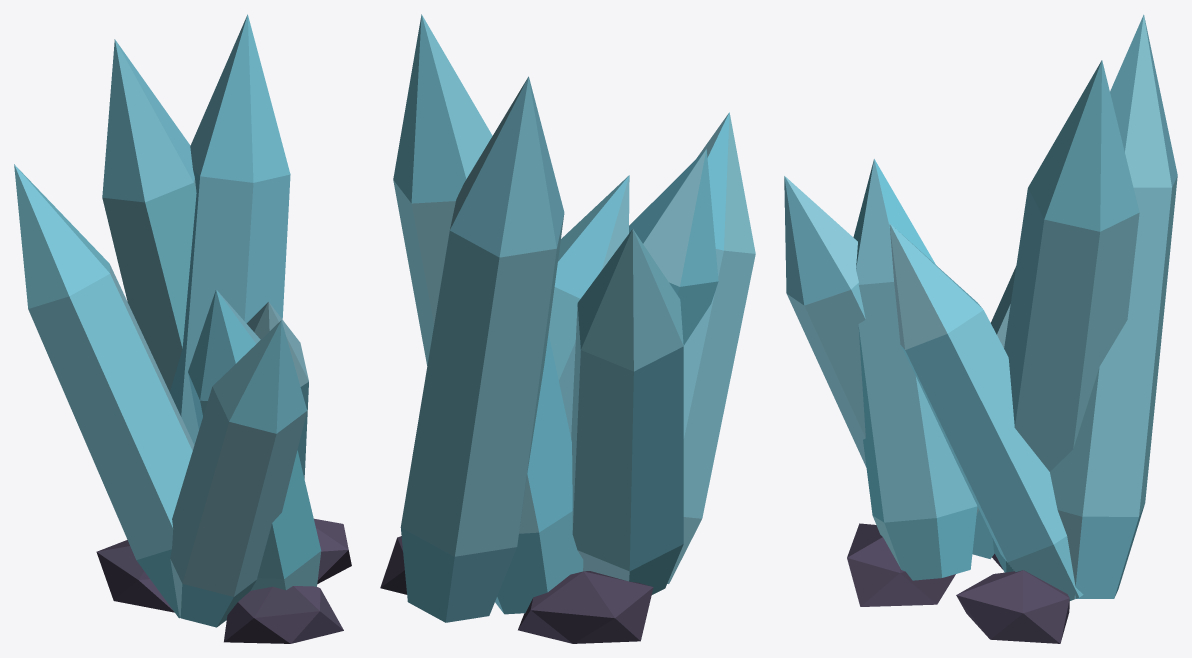
The model's file is Crystal_Cyan_B.fbx.
3 renders of one model, left to right at view 1: azimuth 30°, elevation 25°; view 2: azimuth 150°, elevation 25°; view 3: azimuth 270°, elevation 25°, orthographic. The views are drawn at different scales.
Parts seen in each view (by area): view 1: Crystal_Cyan_B; view 2: Crystal_Cyan_B; view 3: Crystal_Cyan_B.
Part boxes in pixels (x1=…): Crystal_Cyan_B: x1=14, y1=14, x2=351, y2=643; Crystal_Cyan_B: x1=380, y1=14, x2=755, y2=643; Crystal_Cyan_B: x1=784, y1=14, x2=1177, y2=643.
Size of the model in its own units: 1.15 by 2.07 by 1.32.
